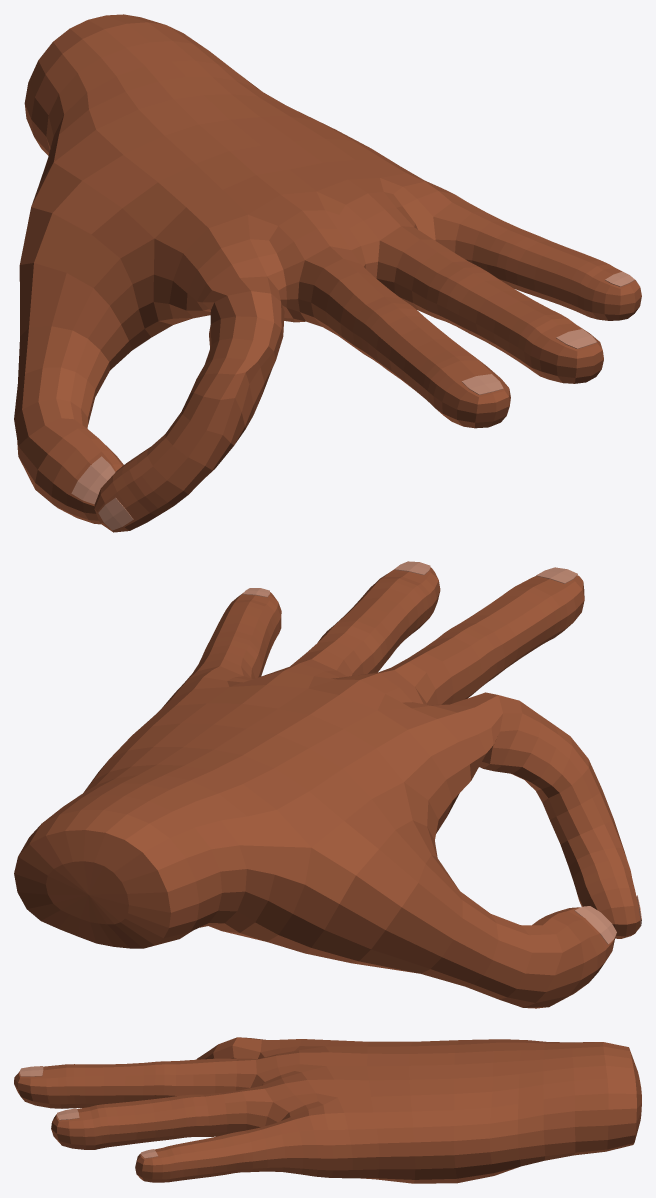
File: ultimate.obj
The picture shows the model from 3 angles, top to bottom: view 1: azimuth 30°, elevation 25°; view 2: azimuth 150°, elevation 25°; view 3: azimuth 270°, elevation 25°; orthographic projection. The views are drawn at different scales.
Visible parts, largest first — view 1: hand; view 2: hand; view 3: hand.
Boxes of the visible parts, box(x1,y1,x2,y2) form: hand: box(14, 14, 641, 532); hand: box(14, 561, 641, 1008); hand: box(14, 1037, 641, 1183).
Size of the model in its own units: 1.57 by 0.8635 by 2.56.
